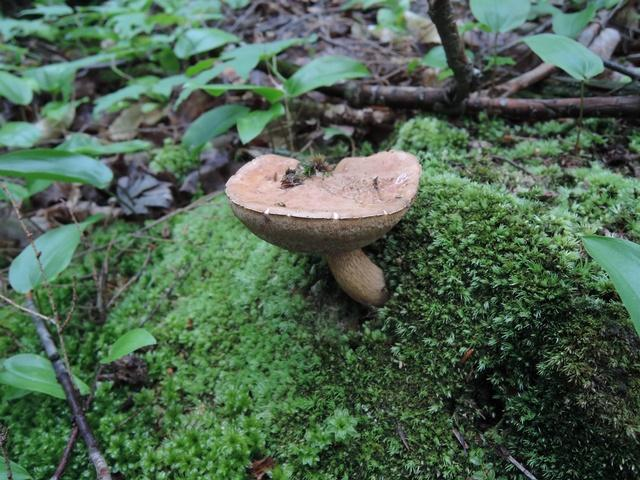Non-edible Mushroom: (223, 147, 422, 308)
